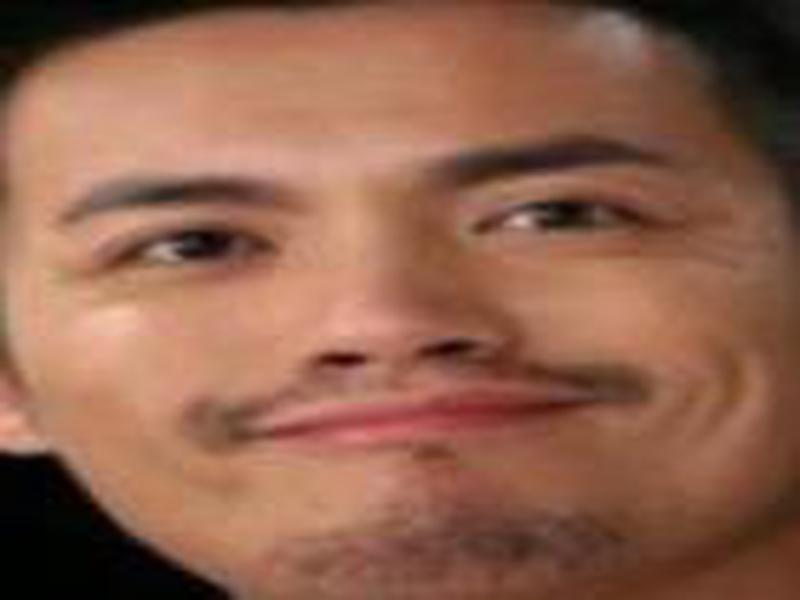without_mask: (4, 97, 784, 597)
